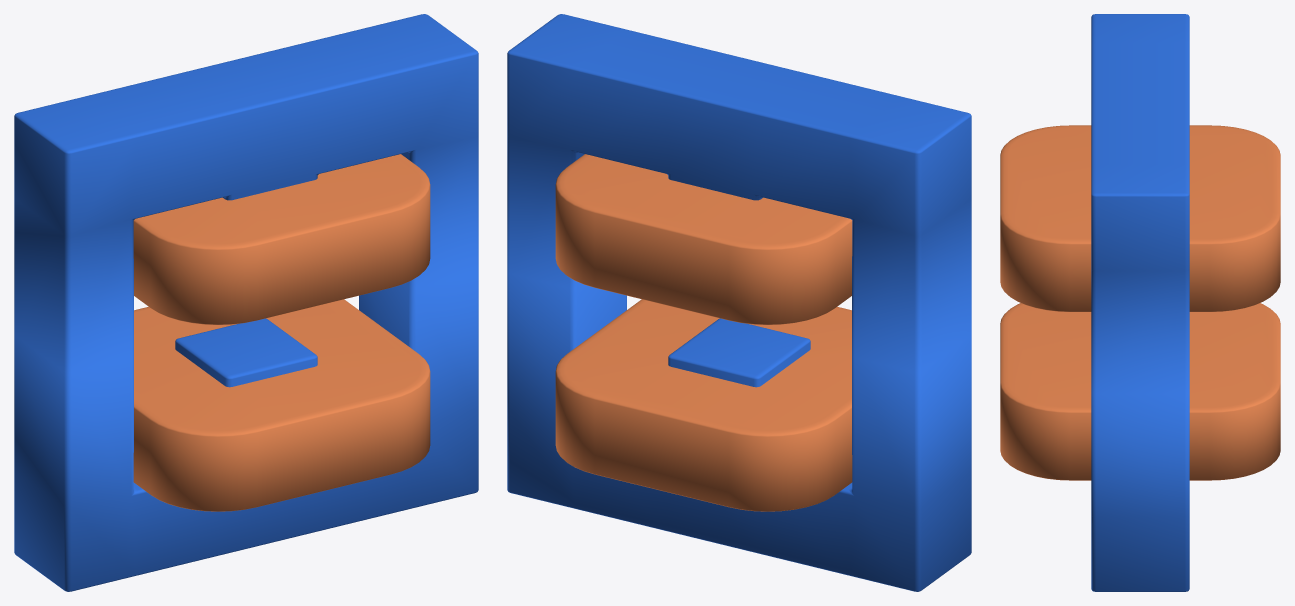
The model's file is Dipole.glb.
3 views of the same model, side by side, from view 1: azimuth 30°, elevation 25°; view 2: azimuth 150°, elevation 25°; view 3: azimuth 270°, elevation 25° (orthographic). The views are drawn at different scales.
Parts seen in each view (by area): view 1: steerer frame, steerer coil lower, steerer coil upper; view 2: steerer frame, steerer coil lower, steerer coil upper; view 3: steerer frame, steerer coil upper, steerer coil lower.
Boxes of the visible parts, bbox=[...] form: steerer frame: bbox=[14, 14, 478, 591]; steerer coil lower: bbox=[133, 299, 430, 511]; steerer coil upper: bbox=[133, 154, 430, 324]; steerer frame: bbox=[507, 14, 971, 591]; steerer coil lower: bbox=[555, 299, 852, 511]; steerer coil upper: bbox=[555, 154, 852, 324]; steerer frame: bbox=[1091, 14, 1189, 591]; steerer coil upper: bbox=[1000, 125, 1280, 311]; steerer coil lower: bbox=[1000, 303, 1280, 480].
Size of the model in its own units: 1.8 by 1.84 by 1.17.
